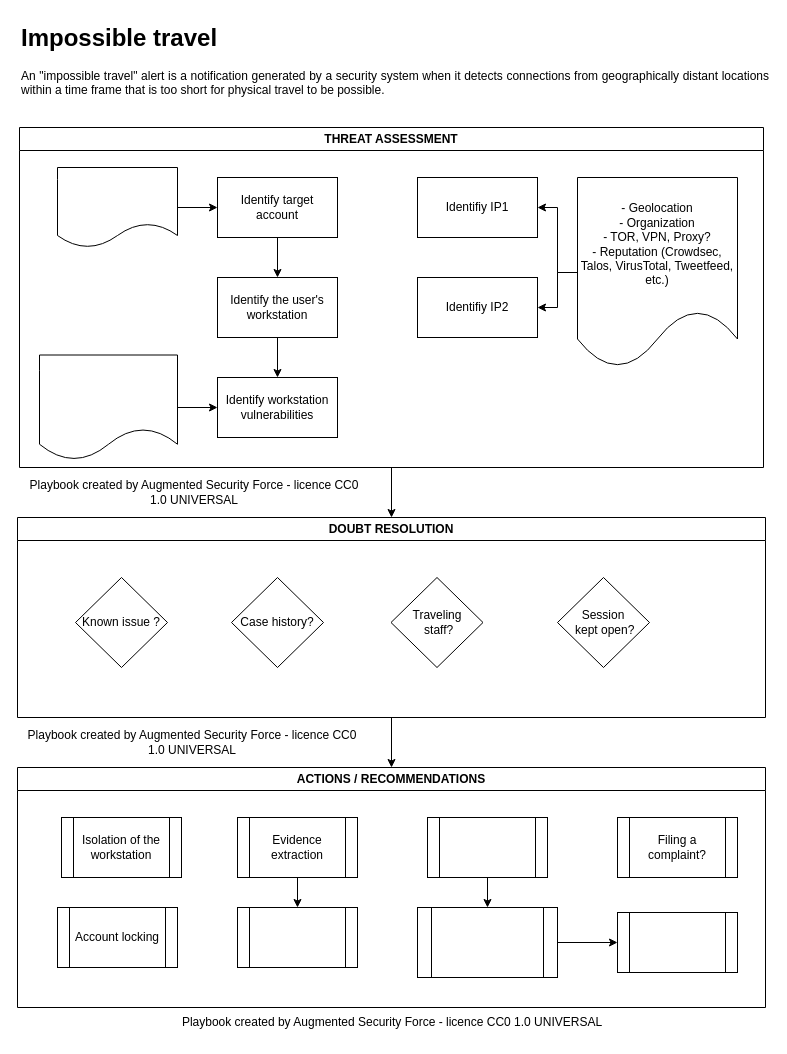
Image size: 787x1054. Some labels were removed from this diagram. The centre of each missing label's shape, as x and y in pixels:
"- VIP account? - Privilege account? - Service account?" belongs at point (117, 207).
"Add IP allow/block list" belongs at point (487, 847).
"Add MFA policy" belongs at point (677, 942).
"If add to block list added: check whether accesses are attempted" belongs at point (487, 942).
"Log analysis" belongs at point (297, 937).
"Vulnerabilities that may have been exploited to obtain login information?" belongs at point (108, 407).
